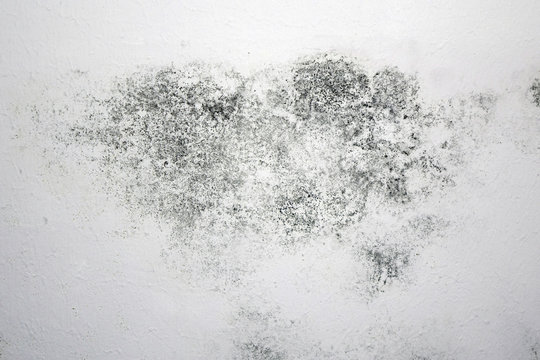schimmel: (301, 47, 448, 197), (102, 59, 247, 135), (131, 156, 214, 231), (253, 200, 338, 267), (245, 313, 283, 358)
